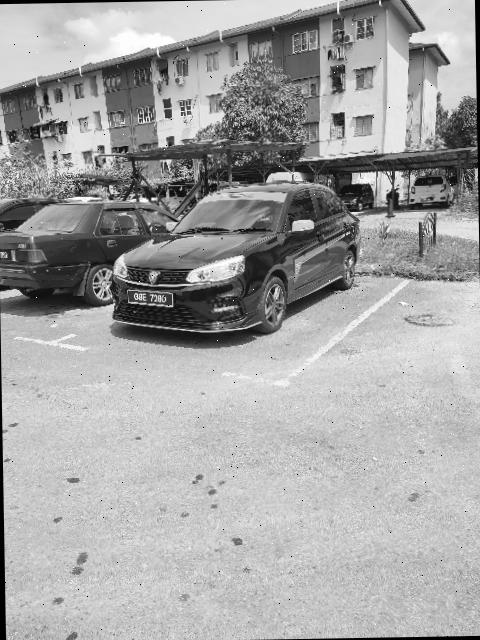License_Plate: (128, 290, 173, 310)
car: (100, 161, 365, 346)
